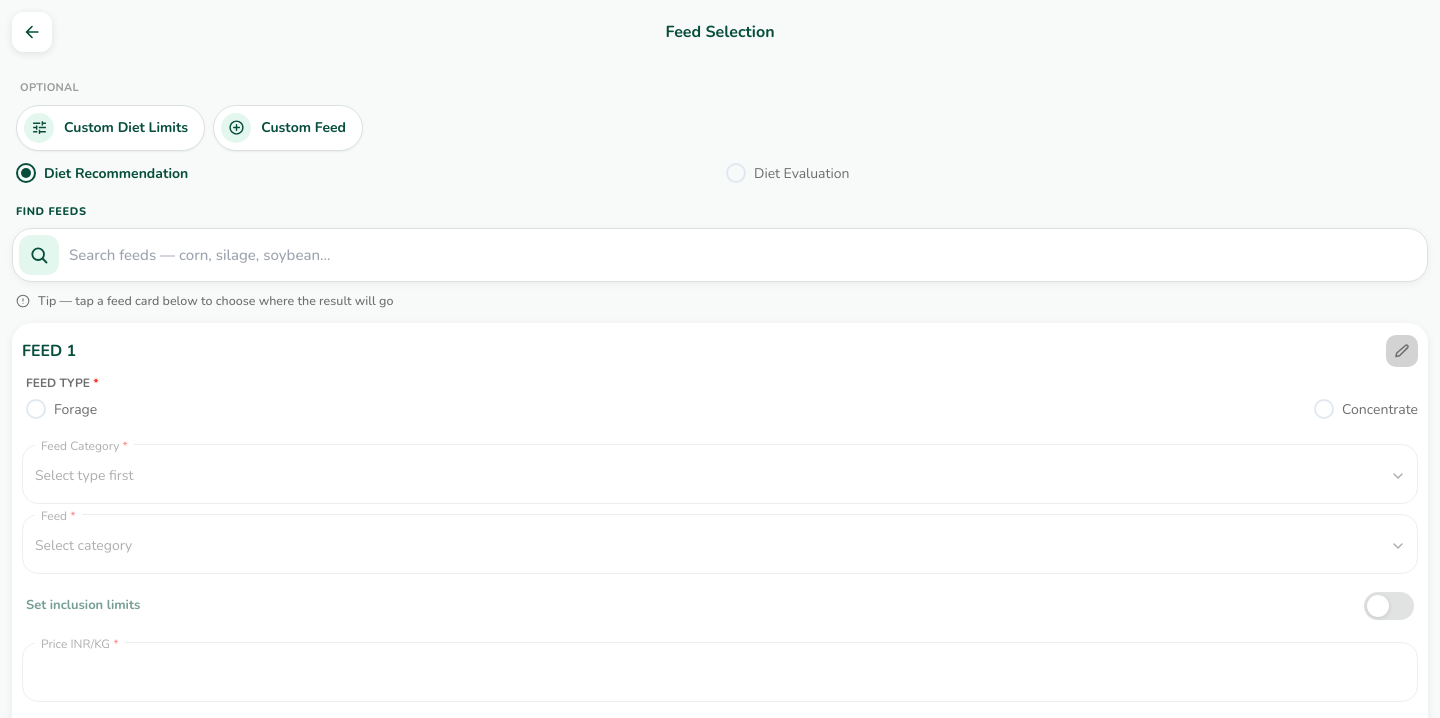
Scenario: feed-selection — Custom Diet Limits gating › falls back to the Constraints-sheet ranges when the endpoint can't be fetched
Click the button "Custom Diet Limits" at (111, 128), box x1=16 y1=104 x2=205 y2=150
(page scrolled)
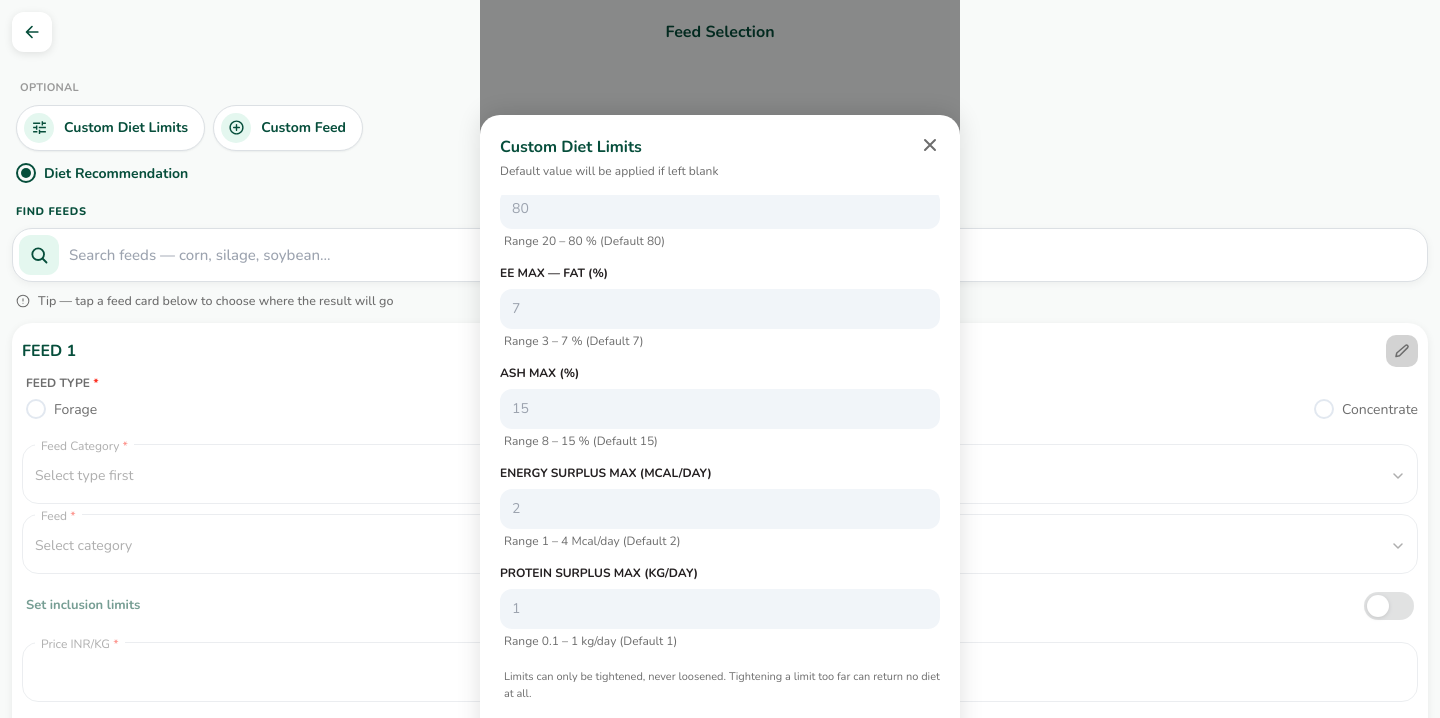
Check: the text "Range 8 – 15 % (Default 15)" is shown, box x1=504 y1=433 x2=658 y2=449
Check: the text "Range 0.1 – 1 kg/day (Default 1)" is shown, box x1=504 y1=633 x2=677 y2=649
